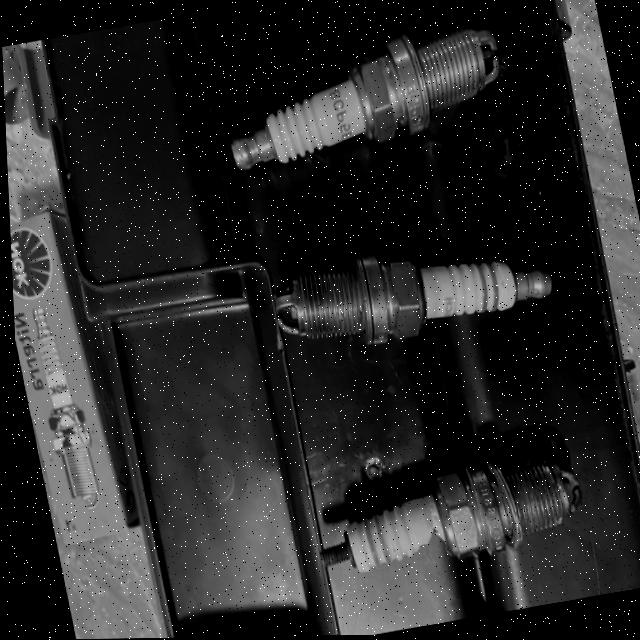damaged_spark-plug: (302, 438, 577, 587)
spark-plug: (224, 5, 504, 168), (266, 257, 555, 362)
